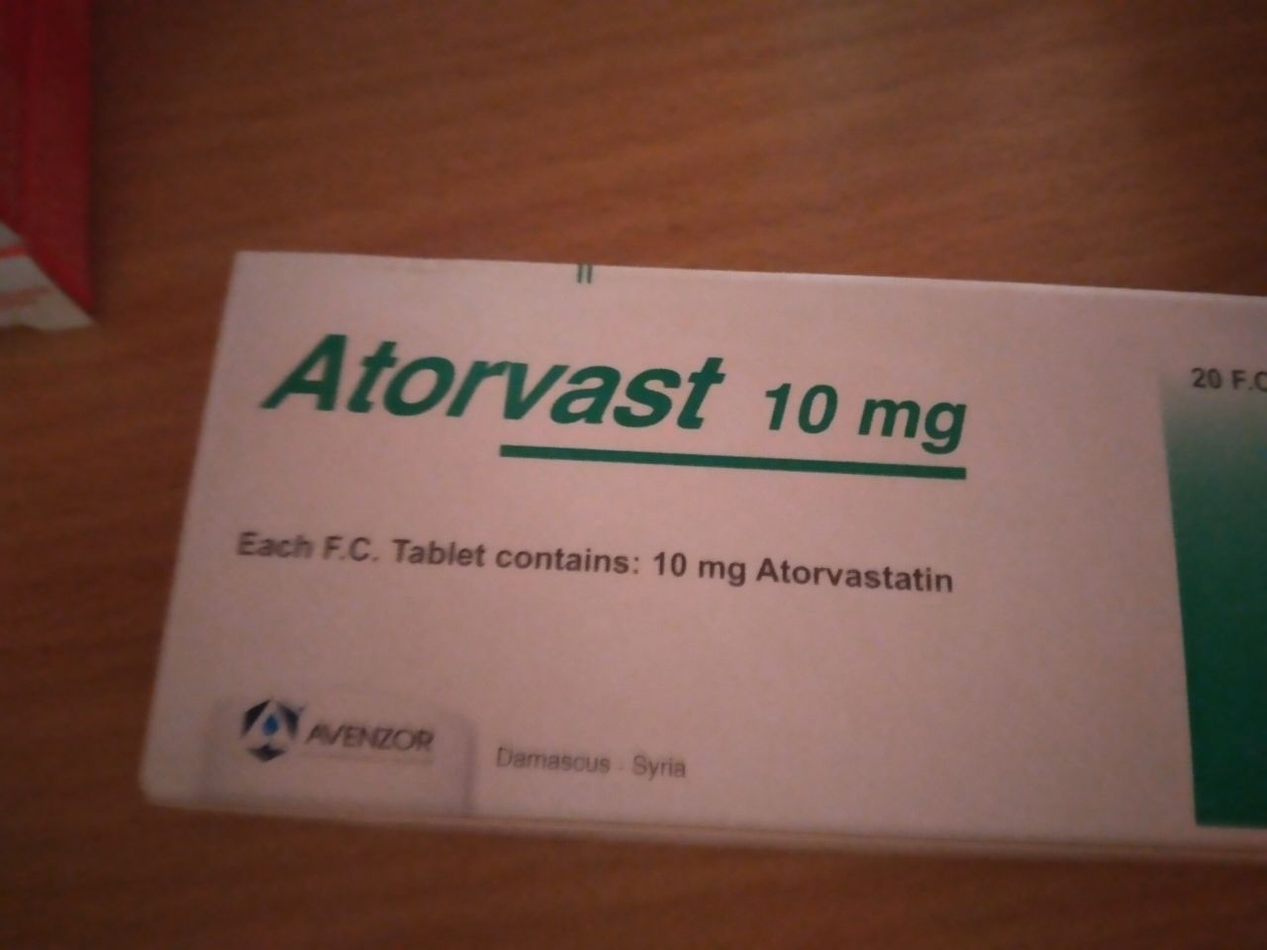Medicine: (134, 215, 1267, 888)
